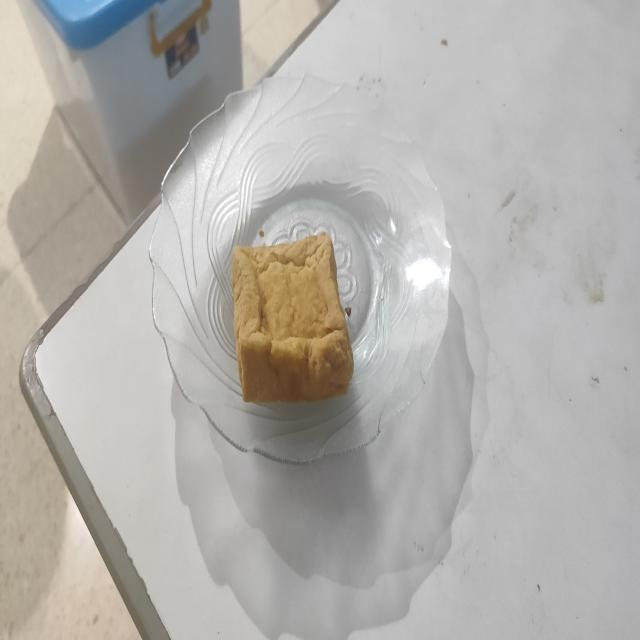tahu_goreng: (232, 232, 354, 403)
